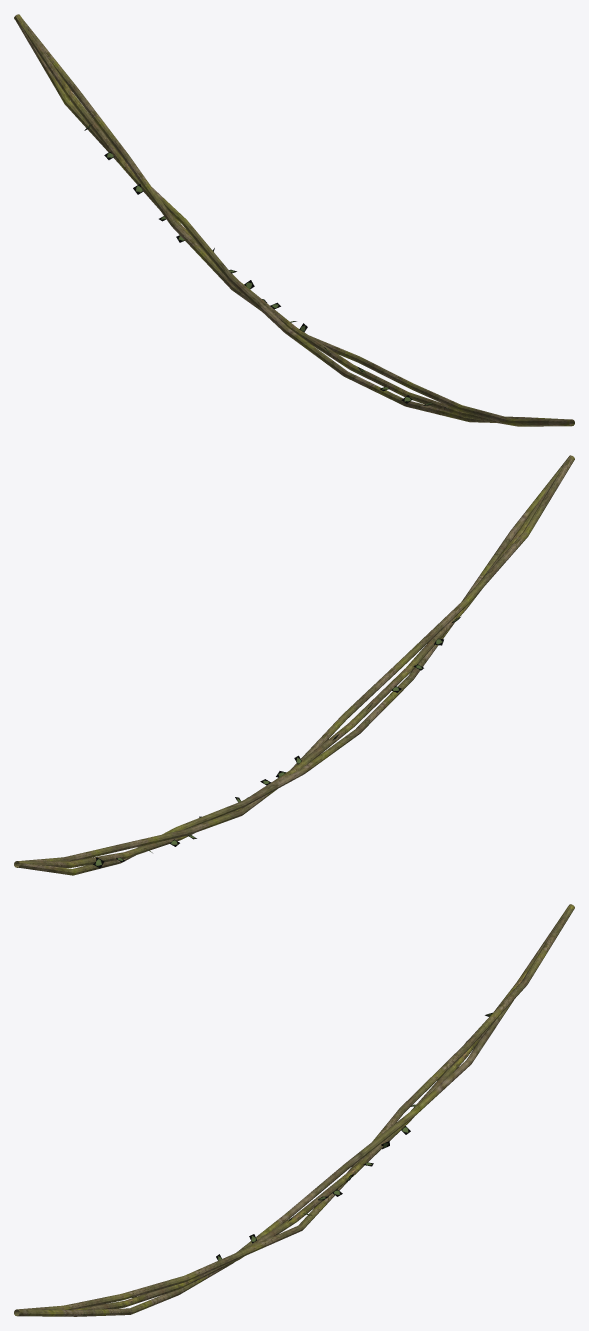
Rendered from vine.glb.
The picture shows the model from 3 angles, top to bottom: view 1: azimuth 30°, elevation 25°; view 2: azimuth 150°, elevation 25°; view 3: azimuth 330°, elevation 25°; orthographic projection.
Visible parts, largest first — view 1: pCylinder8; view 2: pCylinder8; view 3: pCylinder8.
Boxes of the visible parts, x1,y1,x2,y2 form: pCylinder8: (14,14,574,426); pCylinder8: (14,455,574,875); pCylinder8: (14,904,574,1316).
Bounding box in the file's own units: 13.29 × 74.87 × 615.
Materials: 2 (2 with a texture image).
